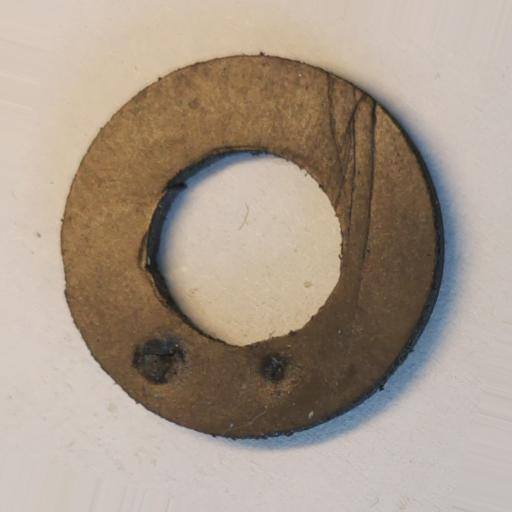defect: (325, 72, 377, 261), (130, 335, 186, 386), (258, 351, 292, 384)
